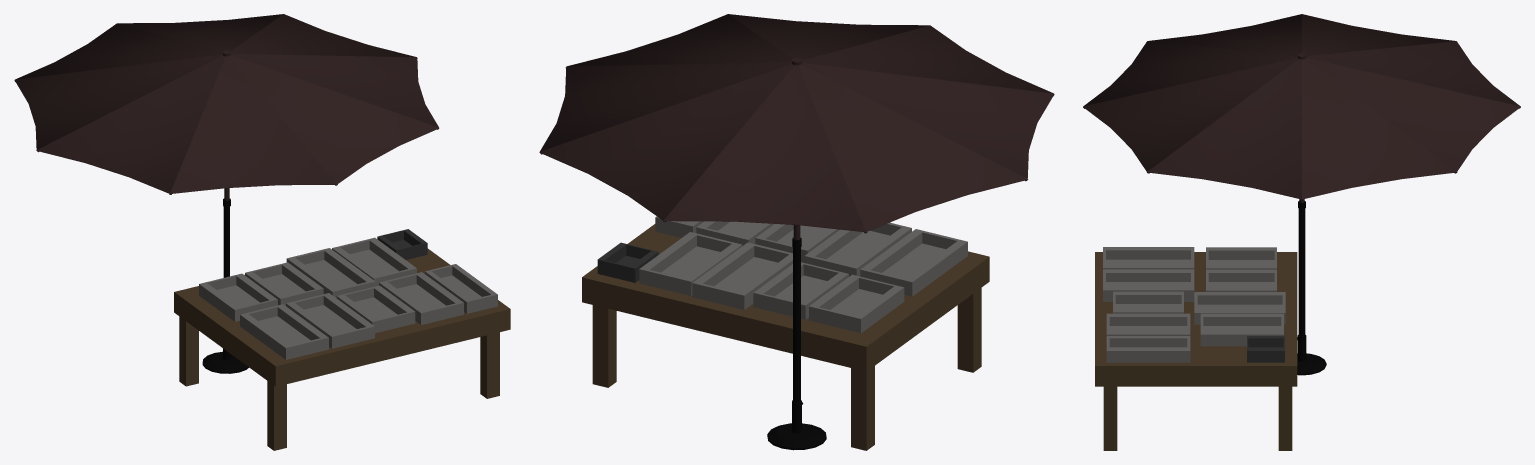
The model's file is GULAYAN.fbx.
The picture shows the model from 3 angles, left to right: view 1: azimuth 30°, elevation 25°; view 2: azimuth 150°, elevation 25°; view 3: azimuth 270°, elevation 25°; orthographic projection. The views are drawn at different scales.
Parts seen in each view (by area): view 1: pCube50; view 2: pCube50; view 3: pCube50.
Part boxes in pixels (x1,y1,x2,y2): pCube50: (14,14,510,450); pCube50: (539,14,1054,450); pCube50: (1083,14,1520,450).
Bounding box in the file's own units: 10.02 × 7.87 × 10.02.
